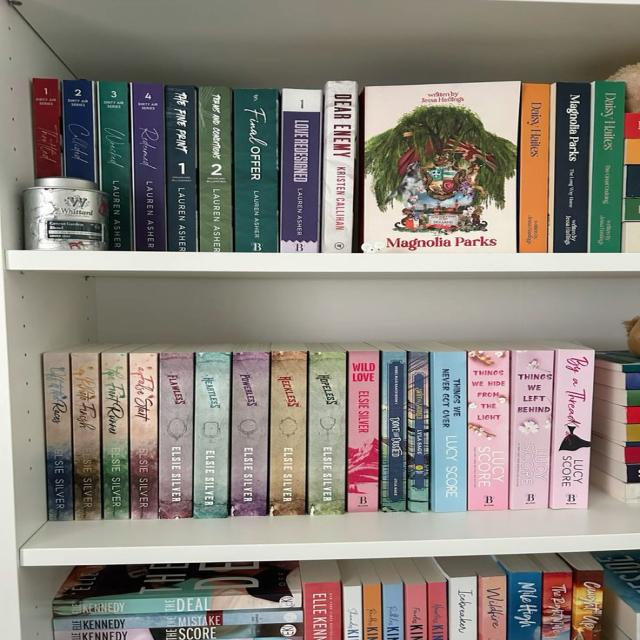book: (234, 88, 278, 251), (508, 351, 553, 510), (52, 589, 303, 617), (280, 88, 322, 253), (553, 349, 595, 509), (468, 351, 509, 510), (591, 82, 627, 252), (554, 83, 590, 252), (130, 83, 166, 251), (270, 350, 306, 516), (97, 81, 132, 251), (309, 352, 345, 514), (232, 353, 266, 518), (53, 610, 304, 632), (432, 351, 466, 512), (200, 86, 233, 251), (194, 352, 226, 517), (160, 353, 192, 518), (519, 84, 550, 253), (44, 353, 73, 521), (324, 81, 352, 252), (73, 353, 101, 519), (348, 352, 377, 512), (102, 352, 129, 520), (130, 353, 156, 518), (54, 623, 303, 640), (383, 352, 407, 512), (61, 80, 96, 183), (409, 352, 430, 513), (31, 78, 62, 179), (509, 572, 541, 640), (304, 583, 341, 640), (542, 572, 570, 640), (576, 568, 602, 640), (479, 575, 506, 640), (449, 577, 476, 640), (382, 585, 404, 640), (405, 584, 426, 640), (428, 582, 447, 640), (343, 586, 362, 640), (362, 586, 381, 640)
